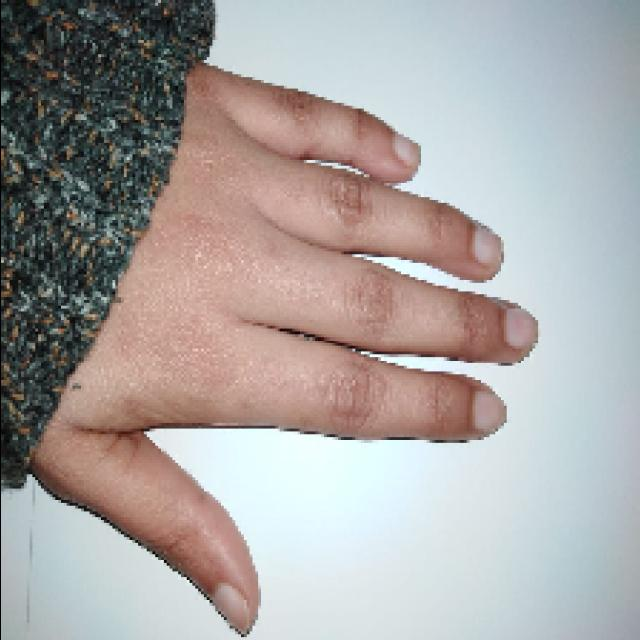Nail: (211, 582, 252, 631), (472, 390, 505, 434), (502, 308, 536, 350), (471, 224, 500, 265), (391, 132, 419, 169)
